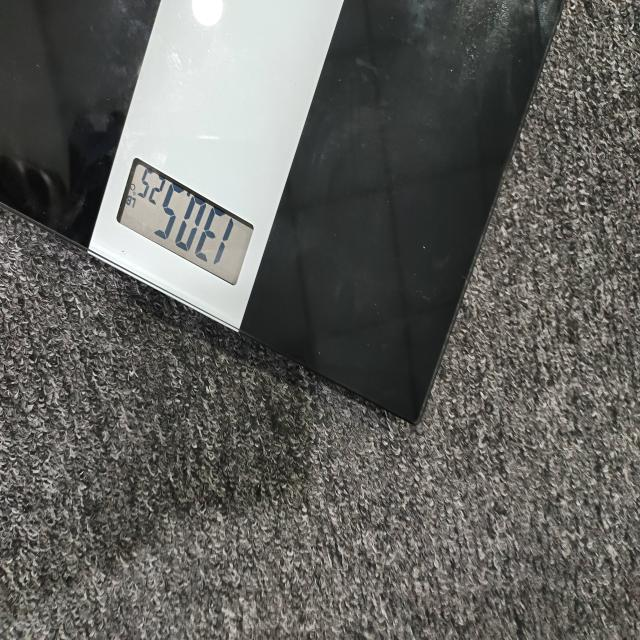ws: (88, 0, 346, 333)
